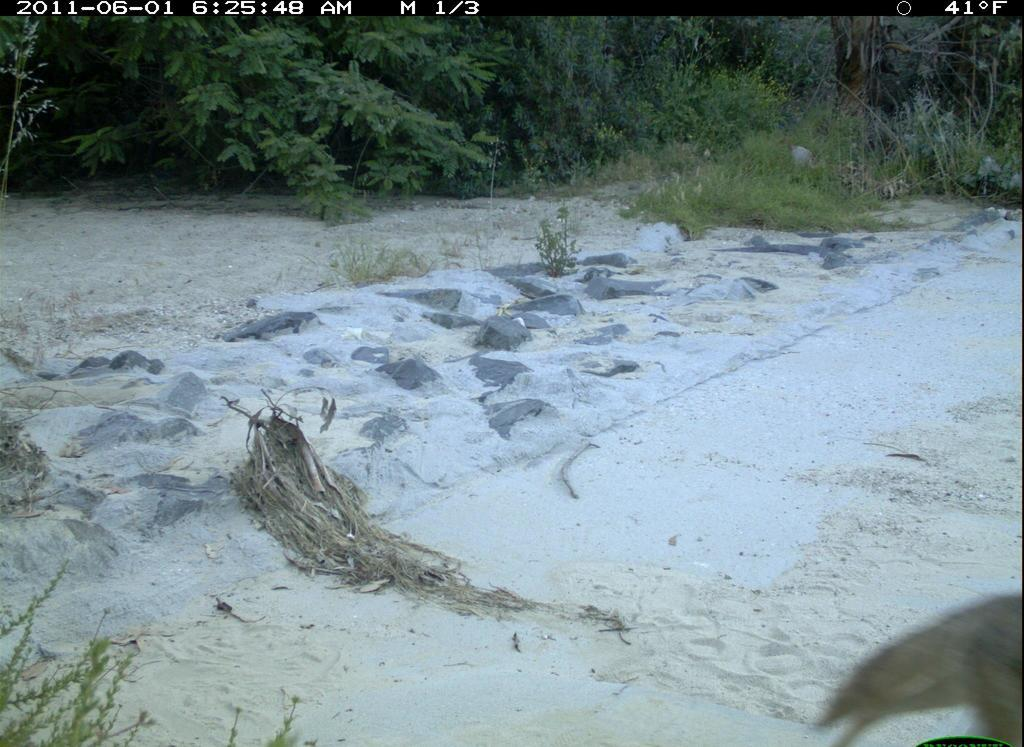coyote: (799, 579, 1024, 747)
